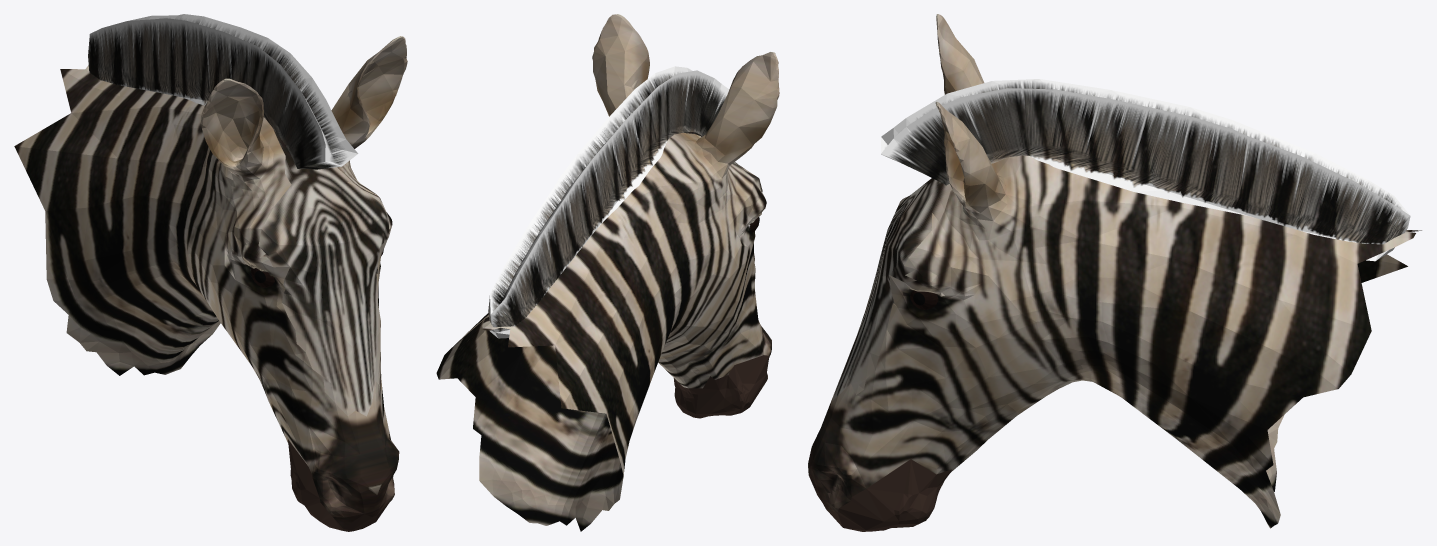
Rendered from Zcabeza.obj.
3 views of the same model, side by side, from view 1: azimuth 30°, elevation 25°; view 2: azimuth 150°, elevation 25°; view 3: azimuth 270°, elevation 25° (orthographic). The views are drawn at different scales.
Parts seen in each view (by area): view 1: Cabeza; view 2: Cabeza; view 3: Cabeza.
Part boxes in pixels (<box>): Cabeza: <box>14,14,407,531</box>; Cabeza: <box>436,14,779,531</box>; Cabeza: <box>808,14,1421,531</box>.
Bounding box in the file's own units: 0.4119 × 0.8503 × 1.01.
Materials: 4 (4 with a texture image).
